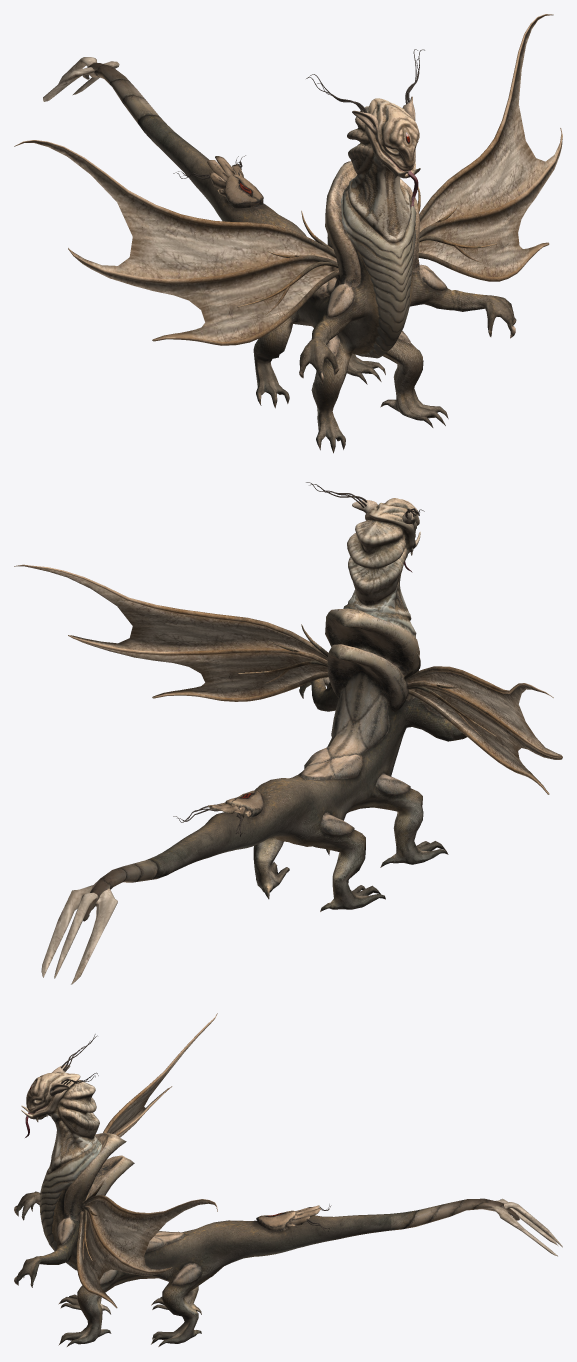
File: The_Basilisk_Fork_V8_dream.glb
3 renders of one model, top to bottom at view 1: azimuth 30°, elevation 25°; view 2: azimuth 150°, elevation 25°; view 3: azimuth 270°, elevation 25°, orthographic. The views are drawn at different scales.
Parts seen in each view (by area): view 1: basilisk_Body_low; view 2: basilisk_Body_low; view 3: basilisk_Body_low.
Part boxes in pixels (x1,y1,x2,y2): basilisk_Body_low: (14, 14, 562, 453); basilisk_Body_low: (14, 482, 562, 984); basilisk_Body_low: (14, 1013, 562, 1346).
Size of the model in its own units: 15.2 by 9.68 by 17.77.
Materials: 1 (1 with a texture image).
